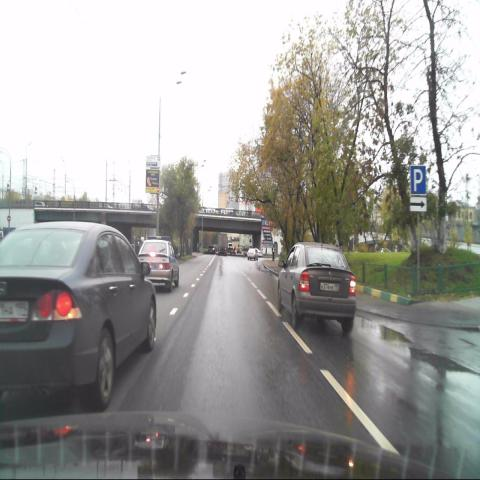8_3_1: (410, 198, 426, 212)
